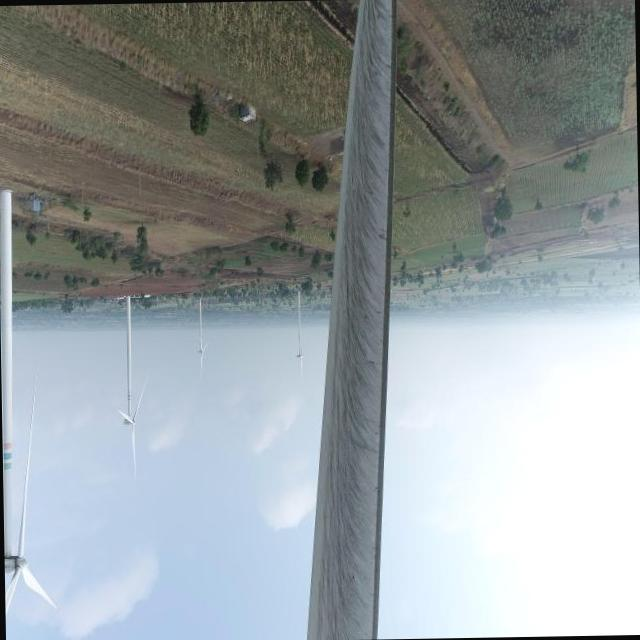Dirt: (306, 1, 397, 640)
